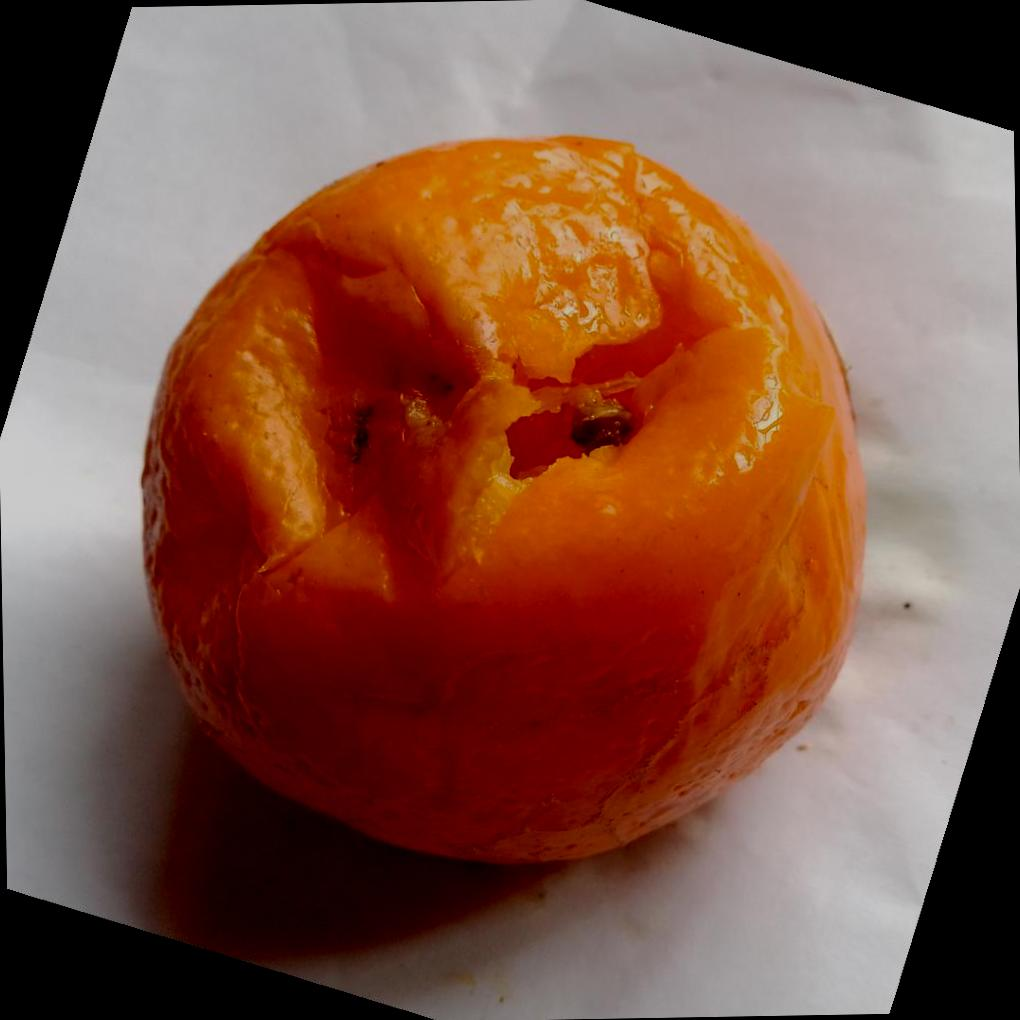FreshOrange: (136, 135, 867, 870)
